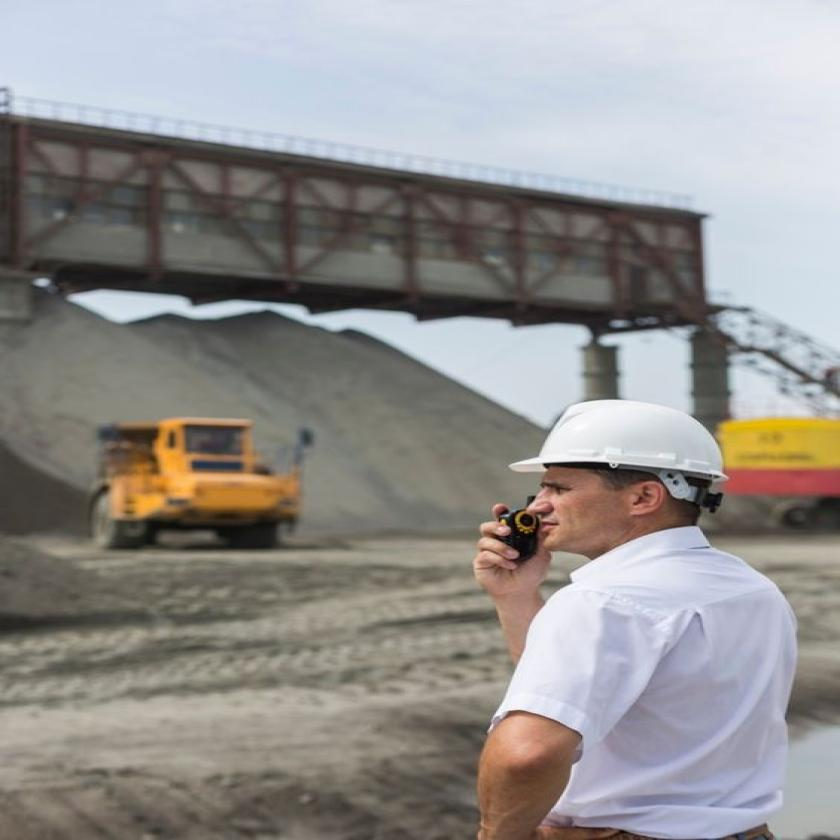Con_casco: (508, 392, 730, 562)
